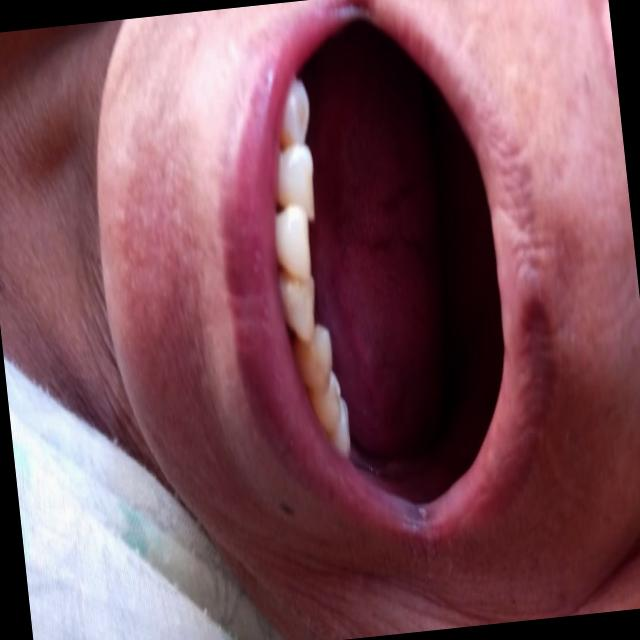No Cancer: (322, 148, 425, 385)
